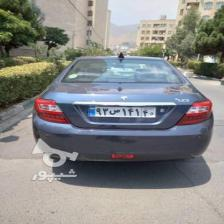plate: (88, 106, 155, 116)
